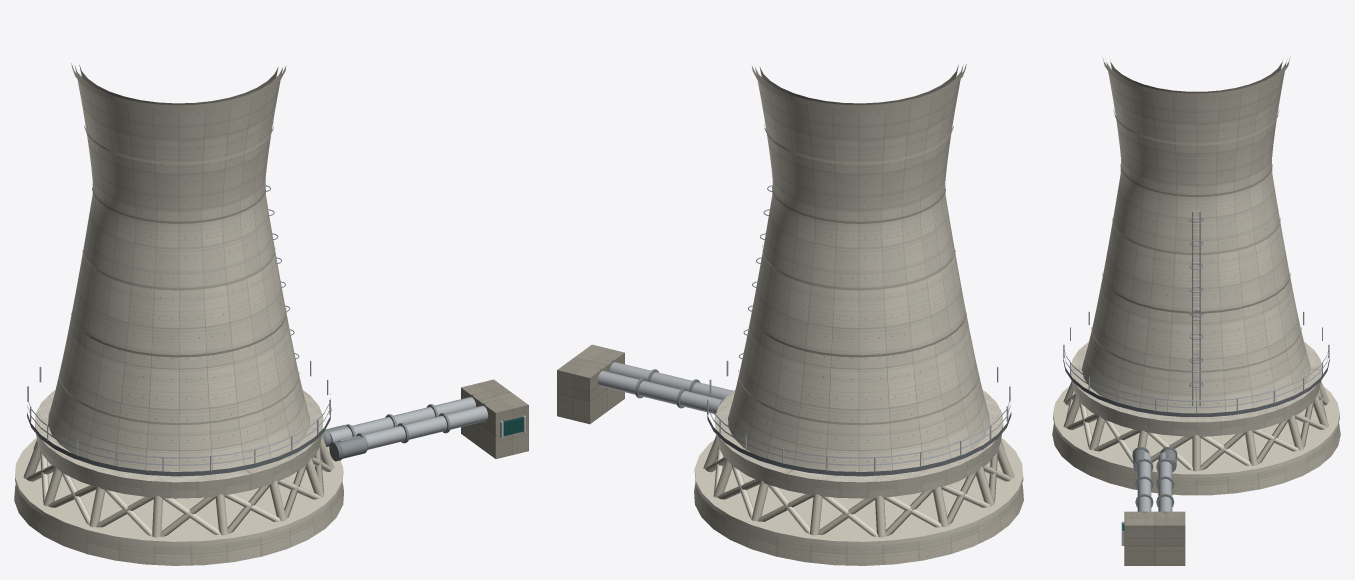
The model's file is lf-4-built.glb.
3 views of the same model, side by side, from view 1: azimuth 30°, elevation 25°; view 2: azimuth 150°, elevation 25°; view 3: azimuth 270°, elevation 25° (orthographic). The views are drawn at different scales.
Size of the model in its own units: 32.76 by 30.3 by 20.8.
Materials: 17 (6 with a texture image).
